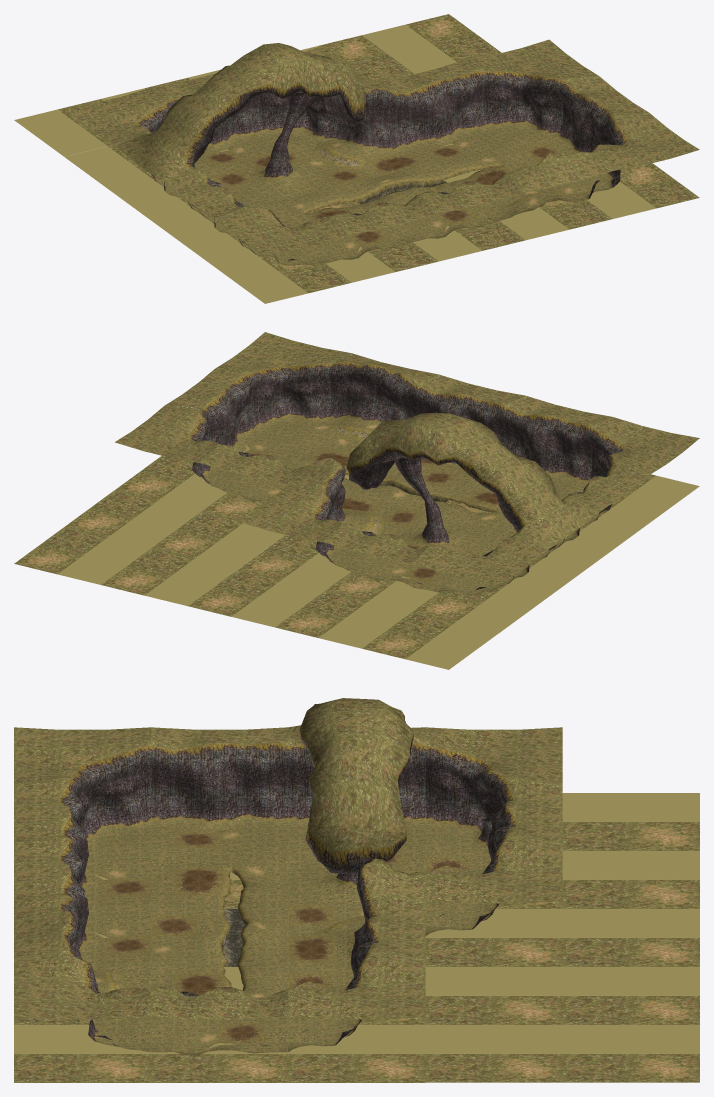
File: map_F01_00.glb
3 views of the same model, one above another, from view 1: azimuth 30°, elevation 25°; view 2: azimuth 150°, elevation 25°; view 3: azimuth 270°, elevation 25° (orthographic). The views are drawn at different scales.
Visible parts, largest first — view 1: default_ground, FM_F01_mount01_ABA (×6), FM_F01_mount01_ACA (×5), FM_F01_mount01_AWA, FM_F01_mount01_AAB, FM_F01_mount01_ABD, FM_F01_crvs01_AAA, FM_F01_crvs01_ABA_mr, FM_F01_crvs01_ABA; view 2: default_ground, FM_F01_mount01_ACA (×5), FM_F01_mount01_ABA (×6), FM_F01_mount01_AWA, FM_F01_mount01_ABD, FM_F01_mount01_AAB, FM_F01_crvs01_AAA, FM_F01_crvs01_ABA, FM_F01_crvs01_ABA_mr; view 3: default_ground, FM_F01_mount01_ABA (×6), FM_F01_mount01_ACA (×5), FM_F01_mount01_AWA, FM_F01_crvs01_ABA, FM_F01_crvs01_AAA, FM_F01_mount01_AAB, FM_F01_mount01_ABD, FM_F01_crvs01_ABA_mr.
Boxes of the visible parts, bbox=[...] form: default_ground: bbox=[14, 14, 699, 303]; FM_F01_mount01_ABA (×6): bbox=[152, 60, 648, 262]; FM_F01_mount01_ACA (×5): bbox=[64, 39, 699, 265]; FM_F01_mount01_AWA: bbox=[114, 43, 365, 218]; FM_F01_mount01_AAB: bbox=[289, 82, 424, 184]; FM_F01_mount01_ABD: bbox=[482, 151, 612, 220]; FM_F01_crvs01_AAA: bbox=[339, 163, 456, 208]; FM_F01_crvs01_ABA_mr: bbox=[426, 142, 538, 187]; FM_F01_crvs01_ABA: bbox=[252, 184, 369, 228]; default_ground: bbox=[14, 444, 699, 669]; FM_F01_mount01_ACA (×5): bbox=[115, 332, 699, 595]; FM_F01_mount01_ABA (×6): bbox=[165, 369, 649, 592]; FM_F01_mount01_AWA: bbox=[346, 412, 598, 584]; FM_F01_mount01_ABD: bbox=[302, 353, 438, 449]; FM_F01_mount01_AAB: bbox=[289, 458, 424, 535]; FM_F01_crvs01_AAA: bbox=[344, 463, 473, 513]; FM_F01_crvs01_ABA: bbox=[438, 478, 562, 534]; FM_F01_crvs01_ABA_mr: bbox=[274, 434, 353, 487]; default_ground: bbox=[14, 793, 699, 1082]; FM_F01_mount01_ABA (×6): bbox=[14, 727, 562, 1055]; FM_F01_mount01_ACA (×5): bbox=[14, 727, 562, 1051]; FM_F01_mount01_AWA: bbox=[288, 698, 425, 907]; FM_F01_crvs01_ABA: bbox=[151, 846, 288, 938]; FM_F01_crvs01_AAA: bbox=[151, 904, 288, 966]; FM_F01_mount01_AAB: bbox=[288, 858, 425, 964]; FM_F01_mount01_ABD: bbox=[14, 894, 151, 1023]; FM_F01_crvs01_ABA_mr: bbox=[151, 962, 288, 1023].
Size of the model in its own units: 180 by 58.96 by 180.
30 materials, 30 textured.
